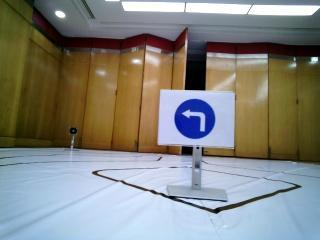left: (166, 89, 226, 142)
